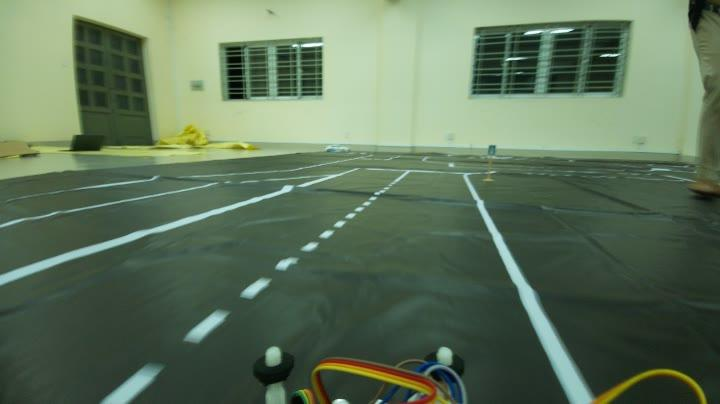highway_entry: (486, 144, 497, 160)
